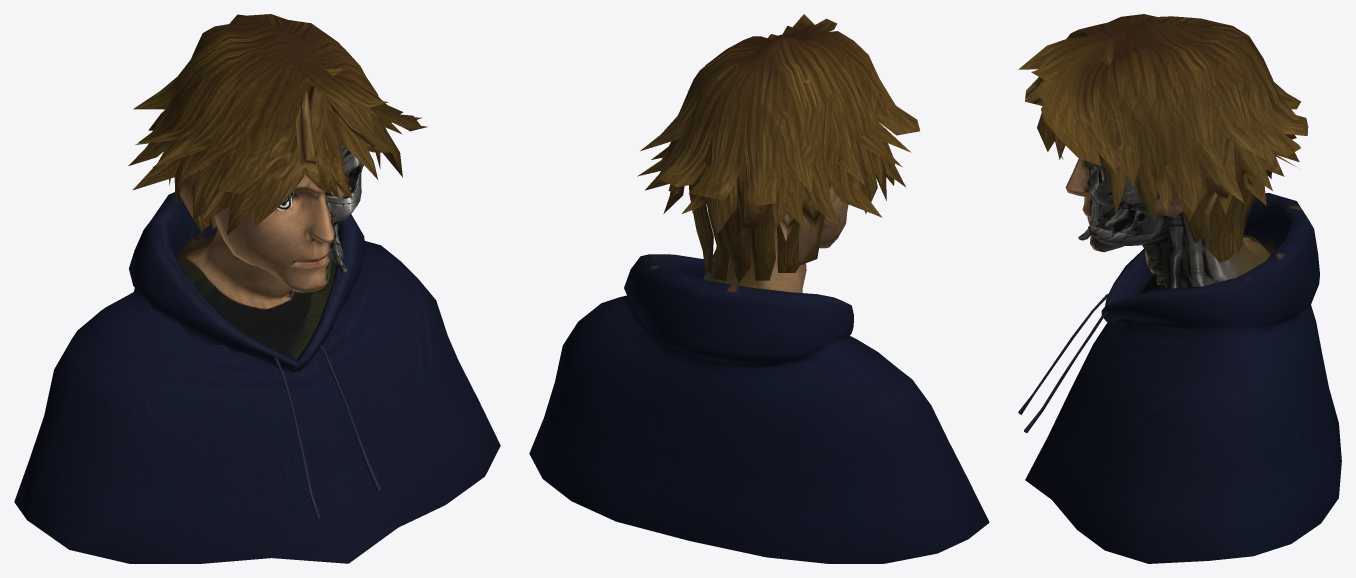
The model's file is NeuroDronizm.glb.
The picture shows the model from 3 angles, left to right: view 1: azimuth 30°, elevation 25°; view 2: azimuth 150°, elevation 25°; view 3: azimuth 270°, elevation 25°; orthographic projection. The views are drawn at different scales.
Parts seen in each view (by area): view 1: Mesh_0.001; view 2: Mesh_0.001; view 3: Mesh_0.001.
Boxes of the visible parts, x1,y1,x2,y2 form: Mesh_0.001: (14, 14, 500, 563); Mesh_0.001: (529, 14, 989, 563); Mesh_0.001: (1018, 14, 1341, 563).
Size of the model in its own units: 1.96 by 2 by 1.28.
Materials: 1 (1 with a texture image).
